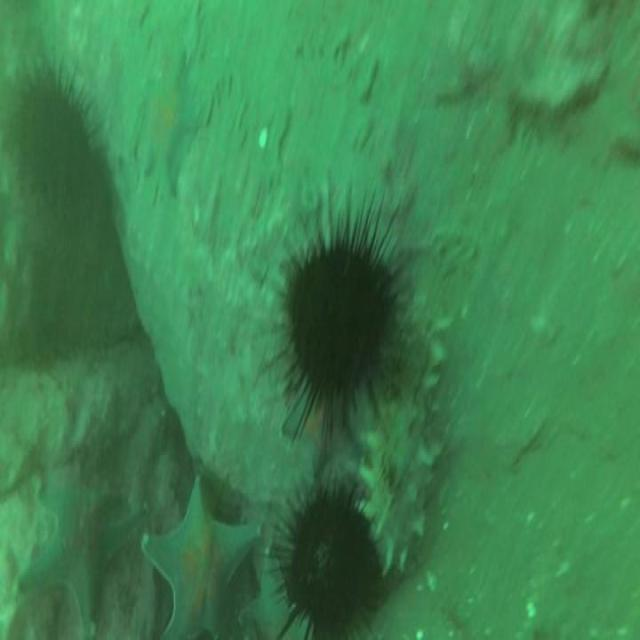echinus: (282, 242, 388, 403), (284, 493, 374, 637), (17, 82, 96, 221)
holothurian: (358, 297, 448, 567)
starfish: (142, 468, 263, 640), (19, 484, 145, 638), (136, 46, 197, 196)
